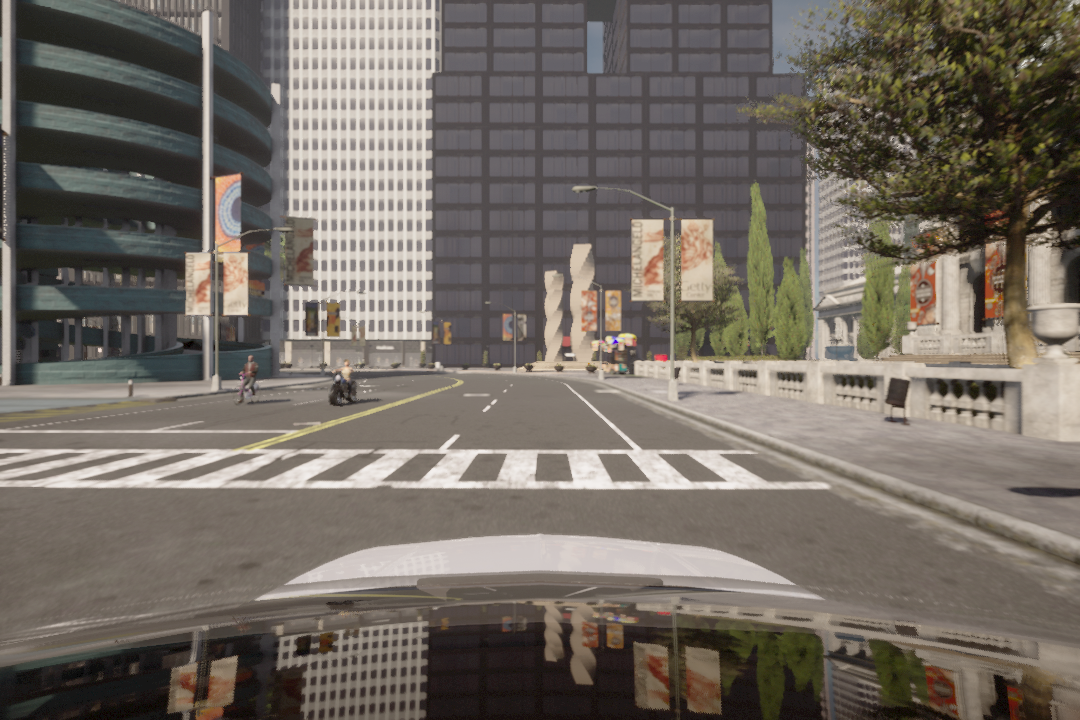walkside: (4, 448, 845, 494)
